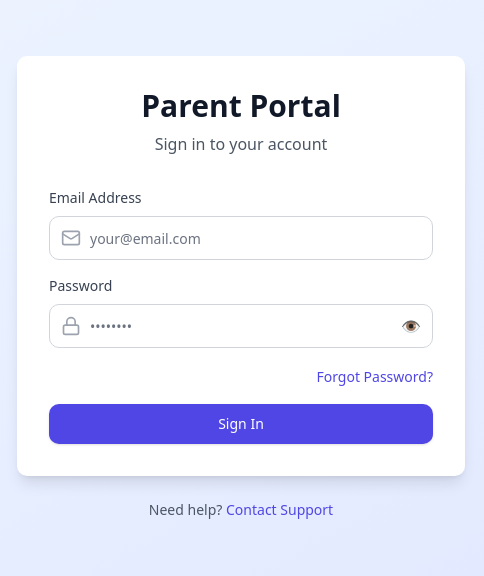
Test case: Parent Authentication Integration › Error Handling › should handle network errors
In the field labelled "Email Address": {"x": 241, "y": 238} left=49, top=216, right=433, bottom=260, type "parent@example.com"
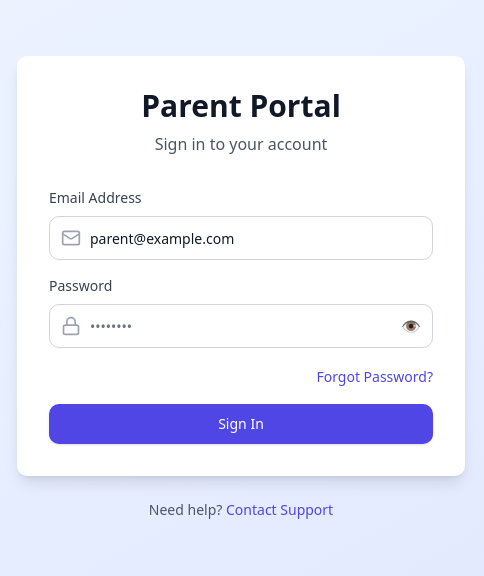
In the password field labelled "Password": {"x": 241, "y": 326} left=49, top=304, right=433, bottom=348, type "password123"
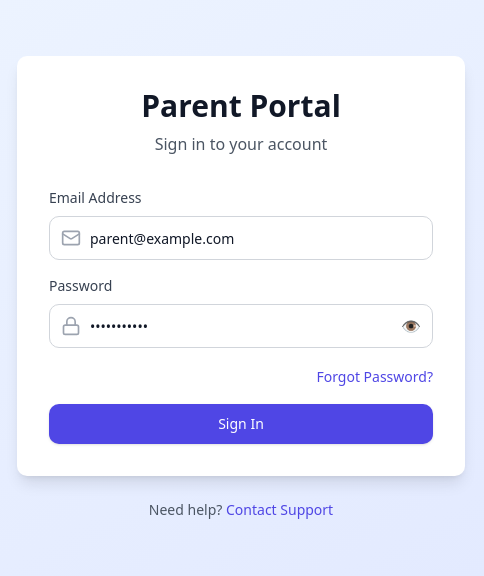
Click the button "Sign In": {"x": 241, "y": 424} left=49, top=404, right=433, bottom=444
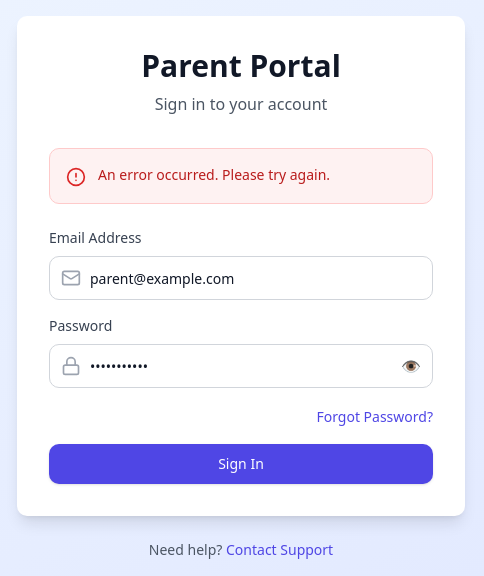
Expected: the text "An error occurred. Please try again." is shown, left=98, top=165, right=330, bottom=187
